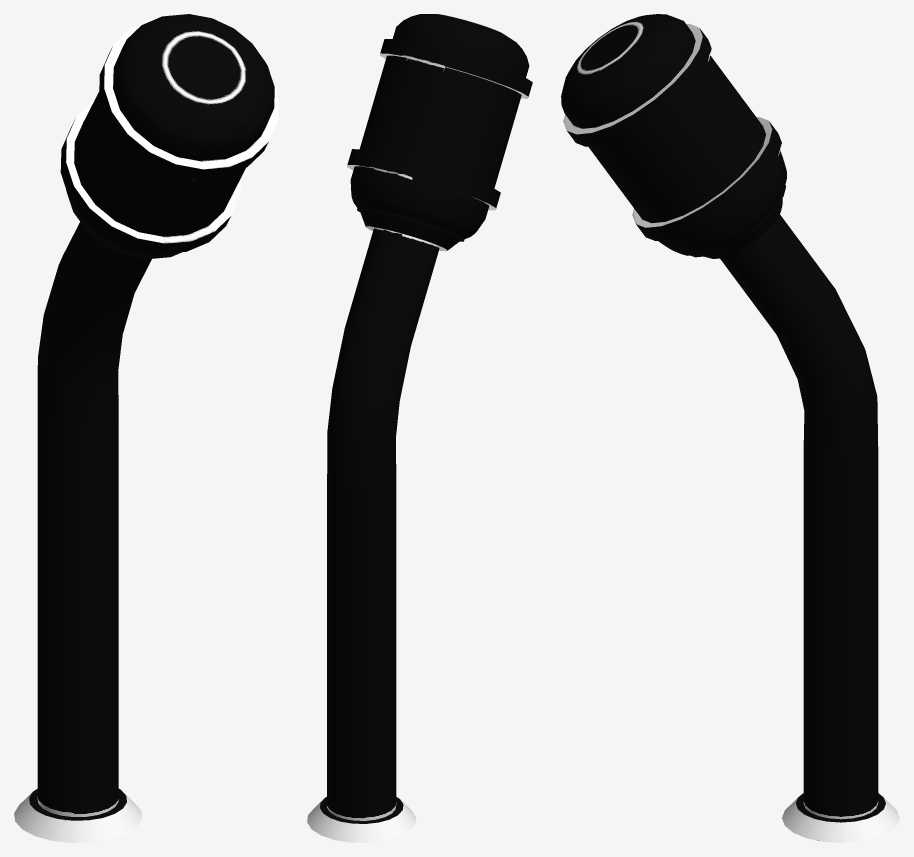
The model's file is Microphone 2.fbx.
3 renders of one model, left to right at view 1: azimuth 30°, elevation 25°; view 2: azimuth 150°, elevation 25°; view 3: azimuth 270°, elevation 25°, orthographic. The views are drawn at different scales.
Visible parts, largest first — view 1: pCylinder141; view 2: pCylinder141; view 3: pCylinder141.
Part boxes in pixels (box(x1,y1,x2,y2)): pCylinder141: box(14, 14, 278, 842); pCylinder141: box(307, 14, 532, 842); pCylinder141: box(561, 14, 899, 842).
Bounding box in the file's own units: 0.6115 × 3.18 × 1.23.
Materials: 1 (1 with a texture image).
